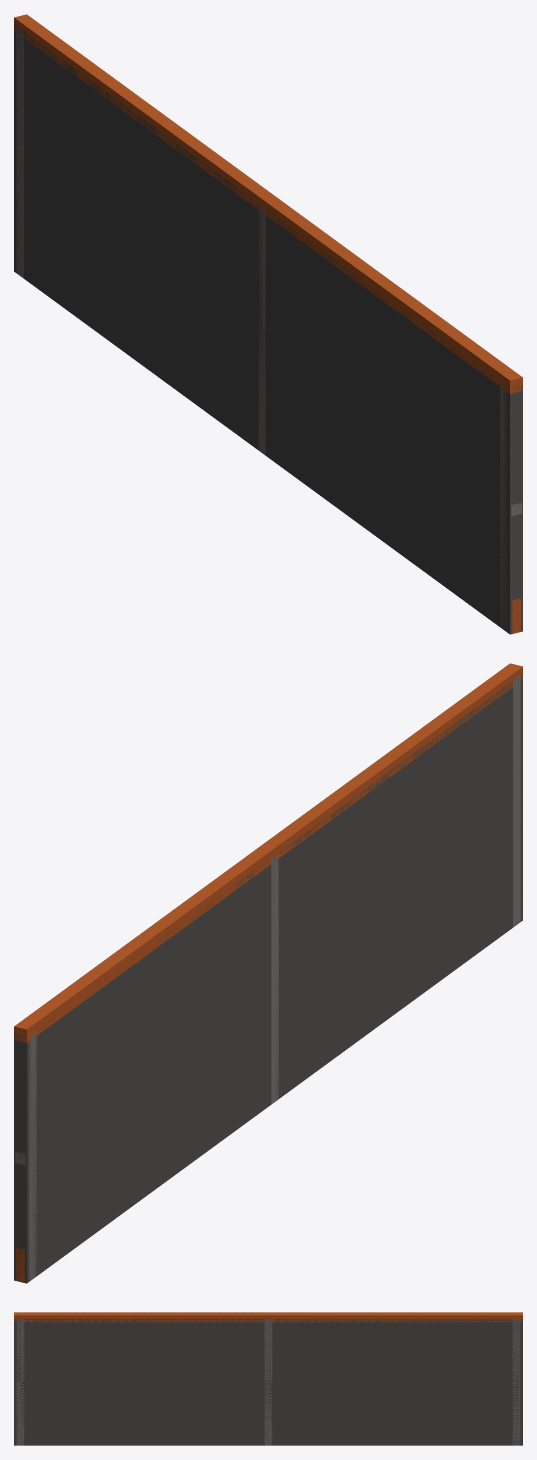
Rendered from B_k_rail.glb.
3 views of the same model, one above another, from view 1: azimuth 30°, elevation 25°; view 2: azimuth 150°, elevation 25°; view 3: azimuth 270°, elevation 25° (orthographic). The views are drawn at different scales.
Visible parts, largest first — view 1: MCDCX_h, Cube.003, Cube, Cube.001, Cube.002; view 2: MCDCX_h, Cube.003, Cube.002, Cube.001, Cube; view 3: MCDCX_h, Cube.003, Cube, Cube.001, Cube.002.
Boxes of the visible parts, x1,y1,x2,y2 form: MCDCX_h: [14, 24, 522, 634]; Cube.003: [14, 14, 522, 393]; Cube: [16, 26, 23, 278]; Cube.001: [258, 204, 265, 455]; Cube.002: [500, 380, 507, 632]; MCDCX_h: [14, 674, 522, 1283]; Cube.003: [14, 663, 522, 1042]; Cube.002: [513, 675, 520, 927]; Cube.001: [271, 853, 278, 1104]; Cube: [29, 1030, 36, 1281]; MCDCX_h: [14, 1319, 522, 1445]; Cube.003: [14, 1312, 522, 1322]; Cube: [512, 1319, 520, 1445]; Cube.001: [264, 1319, 272, 1445]; Cube.002: [16, 1319, 24, 1445].
Bounding box in the file's own units: 0.06 × 1.13 × 4.
